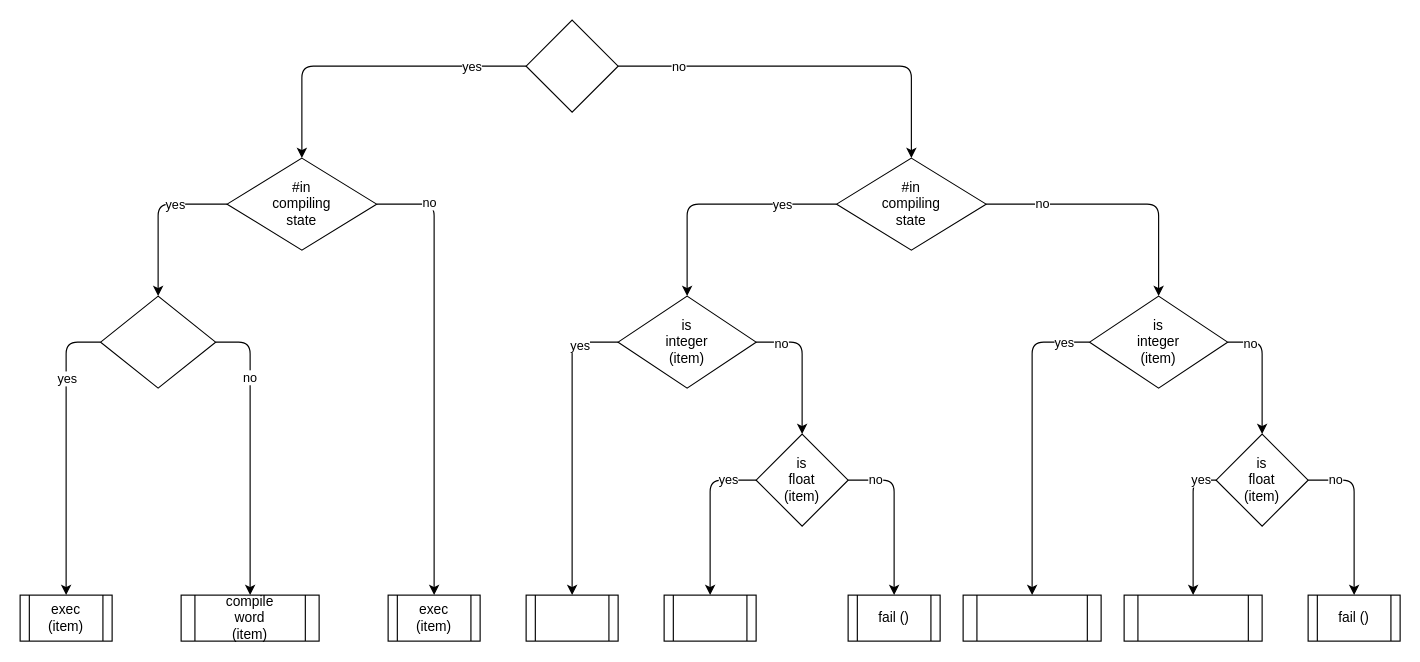
Some shapes in this 1420 by 662 pixel diagram are drawn without their labels. Each missing label, with the centre of its shape:
"compile float (item)" belongs at pixel 709 617.
"compile integer (item)" belongs at pixel 571 617.
"found" belongs at pixel 571 65.
"found immediate" belongs at pixel 157 341.
"push as float (item)" belongs at pixel 1192 617.
"push as integer (item)" belongs at pixel 1031 617.
